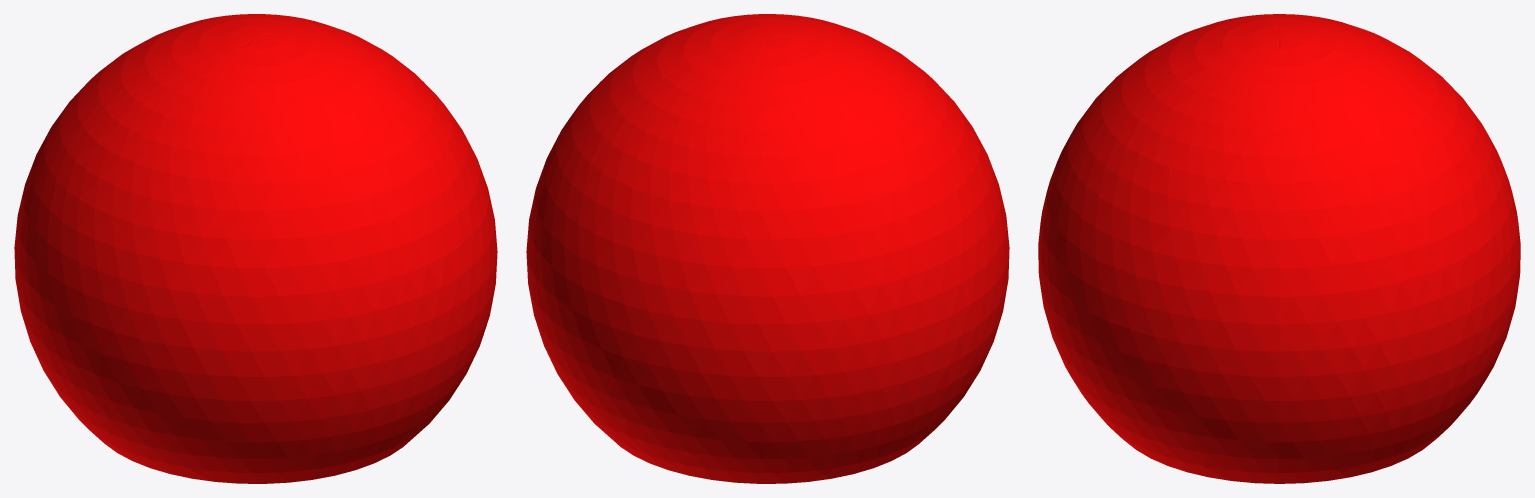
3 views of the same model, side by side, from view 1: azimuth 30°, elevation 25°; view 2: azimuth 150°, elevation 25°; view 3: azimuth 270°, elevation 25° (orthographic).
Visible parts, largest first — view 1: node0; view 2: node0; view 3: node0.
Boxes of the visible parts, x1,y1,x2,y2 form: node0: [14, 14, 497, 483]; node0: [526, 14, 1009, 483]; node0: [1038, 14, 1520, 483].
Bounding box in the file's own units: 0.0499 × 0.0499 × 0.043.
